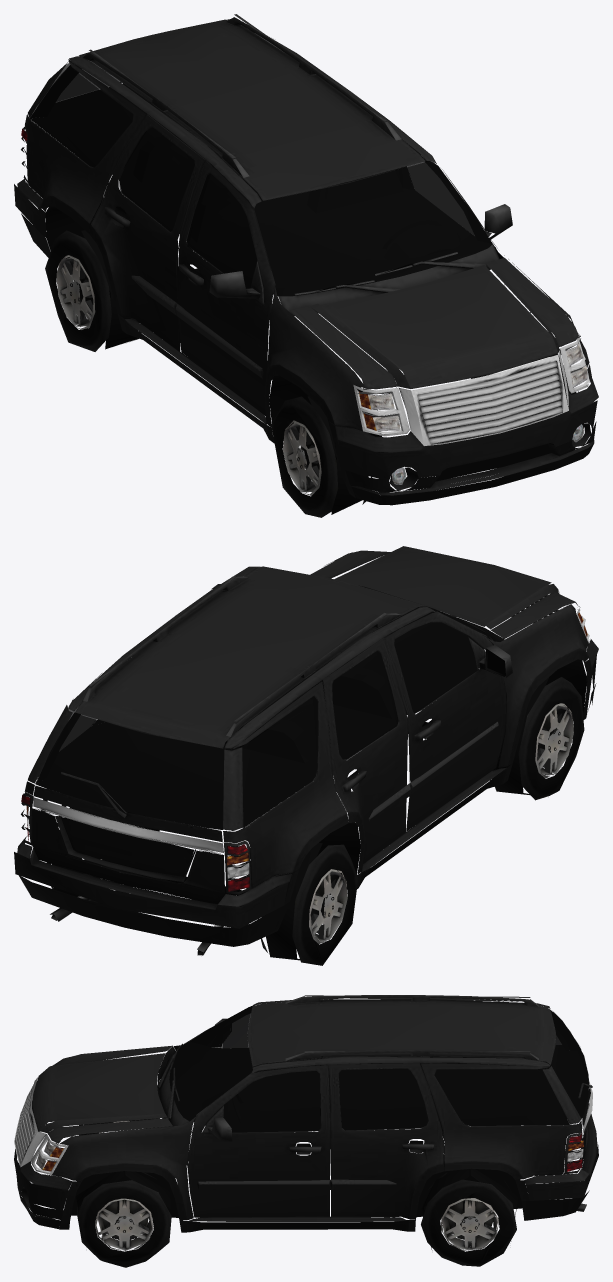
File: car-suv.glb
3 renders of one model, top to bottom at view 1: azimuth 30°, elevation 25°; view 2: azimuth 150°, elevation 25°; view 3: azimuth 270°, elevation 25°, orthographic. The views are drawn at different scales.
Visible parts, largest first — view 1: SUV Body_Body_0; view 2: SUV Body_Body_0; view 3: SUV Body_Body_0.
Boxes of the visible parts, x1=… form: SUV Body_Body_0: x1=14, y1=14, x2=598, y2=517; SUV Body_Body_0: x1=14, y1=546, x2=598, y2=965; SUV Body_Body_0: x1=14, y1=995, x2=598, y2=1267.
Bounding box in the file's own units: 2.07 × 1.75 × 4.62.
Materials: 4 (3 with a texture image).
